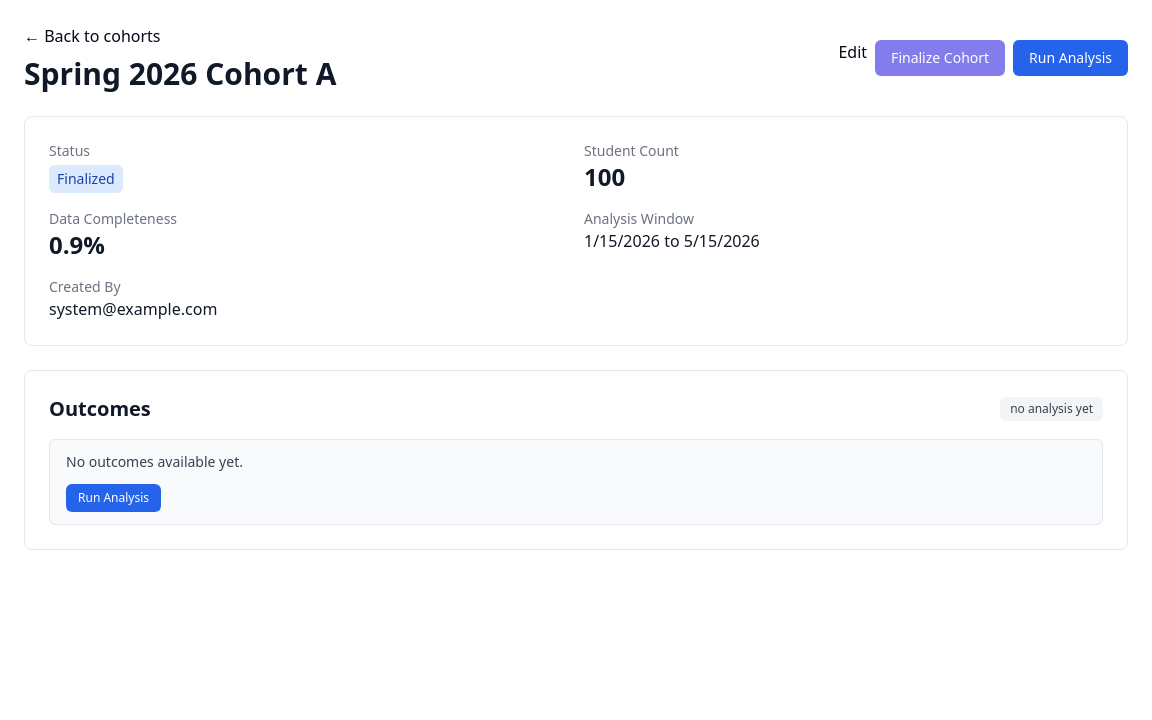
it: CohortDetailPage › shows failure state when analysis request fails
This screenshot has width=1152, height=720.
Click the button "Run Analysis" in the row of "Edit" at (1071, 58), box [1013, 40, 1128, 76]
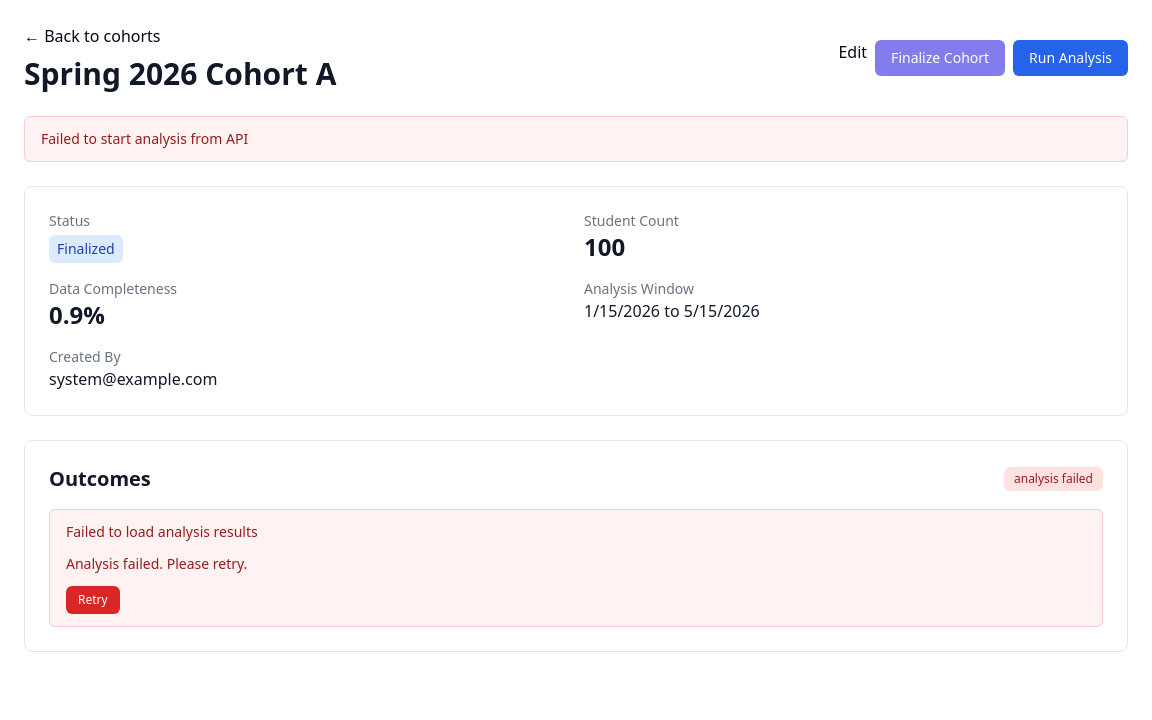
expect the text "Failed to start analysis from API" is shown: met, box [24, 116, 1128, 162]
expect the text "Failed to load analysis results" is shown: met, box [66, 522, 258, 541]
